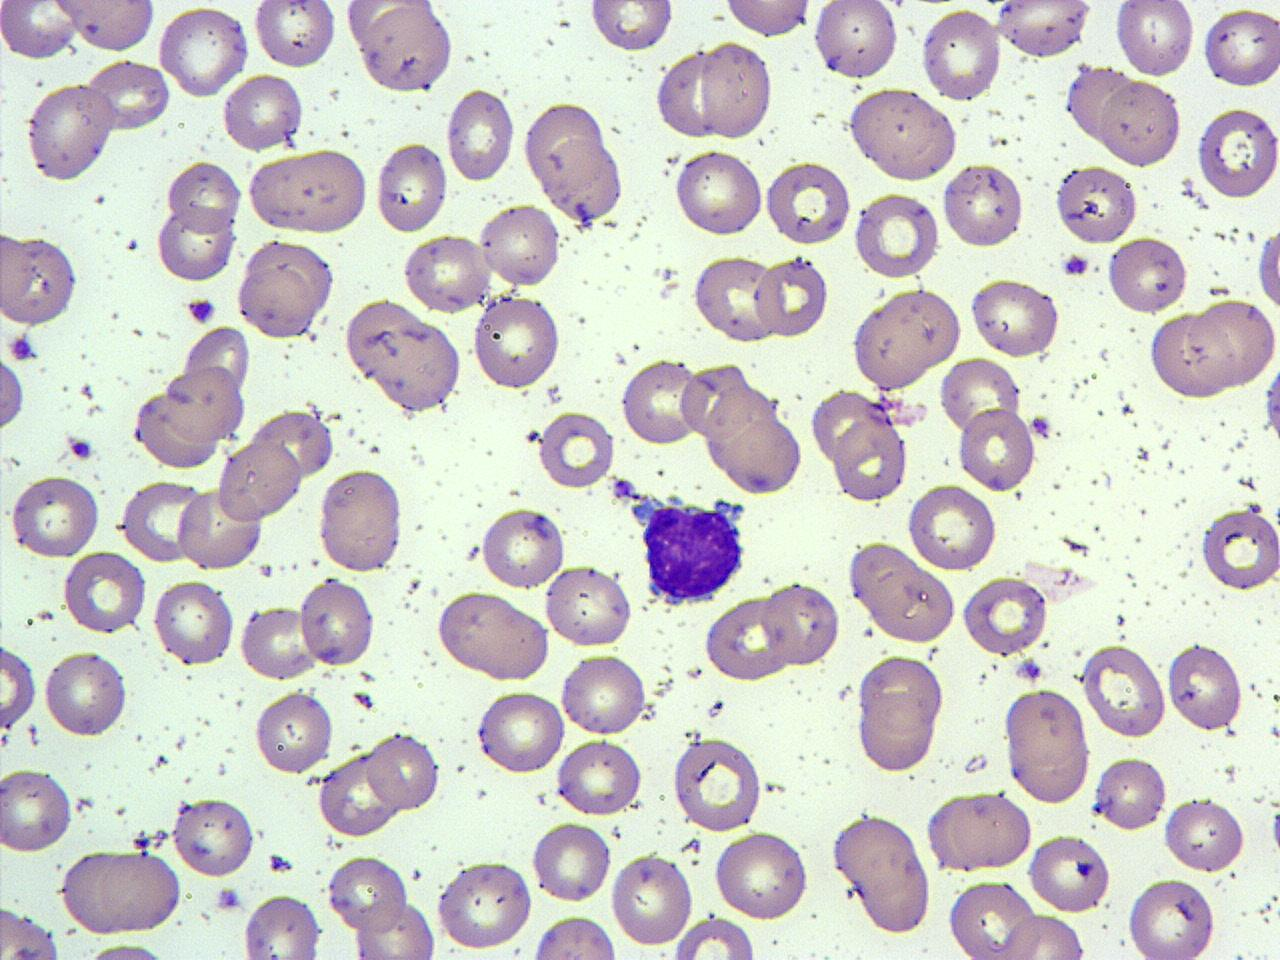Platelets: (0, 359, 27, 431), (6, 333, 37, 363), (184, 297, 217, 325), (213, 885, 244, 912), (265, 851, 296, 874), (610, 476, 638, 500), (1060, 253, 1089, 277), (1018, 658, 1044, 684), (69, 438, 97, 461), (1269, 804, 1280, 858), (152, 827, 171, 849), (132, 830, 152, 850), (1030, 414, 1050, 435), (1266, 723, 1280, 742)
RBC: (831, 810, 933, 935), (850, 285, 964, 390), (244, 148, 370, 239), (853, 652, 945, 773), (435, 589, 552, 683), (846, 86, 958, 182), (1003, 686, 1093, 806), (59, 848, 180, 936), (712, 828, 812, 924), (433, 858, 535, 952), (23, 80, 116, 183), (368, 315, 464, 413), (670, 734, 764, 834), (316, 468, 404, 574), (155, 4, 252, 100), (470, 291, 562, 391), (358, 3, 456, 95), (608, 850, 696, 949), (6, 472, 102, 562), (672, 147, 764, 240), (906, 482, 1000, 573), (1081, 642, 1169, 739), (1195, 103, 1279, 203), (132, 381, 224, 471), (690, 252, 780, 343), (852, 190, 942, 279), (42, 646, 128, 741), (944, 876, 1041, 960), (475, 688, 565, 776), (150, 576, 238, 668), (921, 6, 1002, 105), (175, 483, 264, 573), (559, 650, 648, 740), (698, 38, 775, 142), (1125, 873, 1217, 960), (542, 563, 634, 649), (1192, 294, 1276, 389), (216, 437, 304, 524), (703, 594, 790, 684), (61, 547, 147, 637), (764, 158, 852, 246), (522, 100, 608, 190), (479, 199, 562, 290), (1150, 309, 1232, 402), (864, 566, 958, 646), (945, 786, 1033, 872), (170, 793, 256, 881), (1100, 79, 1182, 170), (400, 232, 493, 314), (968, 276, 1060, 358), (479, 506, 568, 590), (941, 161, 1025, 250), (958, 575, 1048, 657), (714, 414, 806, 494), (1200, 502, 1280, 595), (317, 751, 401, 839), (297, 574, 375, 668), (1166, 640, 1244, 734), (620, 358, 702, 446), (812, 0, 900, 83), (1, 234, 78, 328), (530, 818, 612, 906), (254, 688, 335, 776), (554, 738, 644, 818), (373, 139, 447, 235), (957, 403, 1036, 494), (221, 70, 303, 155), (543, 136, 625, 223), (1024, 833, 1112, 914), (763, 580, 842, 670), (163, 362, 249, 444), (1200, 4, 1280, 92), (1162, 794, 1246, 876), (326, 852, 410, 934), (1105, 234, 1189, 316), (1053, 163, 1139, 244), (234, 260, 321, 340), (938, 354, 1022, 436), (122, 477, 203, 562), (1113, 0, 1197, 81), (833, 414, 908, 504), (445, 86, 516, 182), (753, 254, 830, 341), (0, 764, 74, 855), (538, 407, 617, 491), (344, 297, 421, 382), (155, 204, 237, 283), (365, 730, 442, 814), (249, 406, 335, 482), (86, 57, 173, 130), (1091, 754, 1169, 834), (238, 604, 318, 682), (656, 50, 724, 140), (252, 0, 337, 71), (680, 359, 752, 442), (993, 0, 1091, 61), (165, 159, 244, 234), (53, 0, 158, 54), (240, 892, 322, 960), (848, 538, 922, 612), (1062, 64, 1134, 139), (350, 899, 438, 960), (0, 0, 79, 61), (588, 0, 674, 54), (1002, 910, 1089, 960), (528, 912, 621, 958), (668, 916, 759, 960), (720, 0, 814, 39), (0, 903, 62, 959), (0, 640, 38, 732), (0, 225, 27, 324), (1256, 214, 1280, 322), (77, 938, 175, 960), (0, 354, 27, 433)
WBC: (634, 492, 748, 606), (365, 312, 461, 413)
